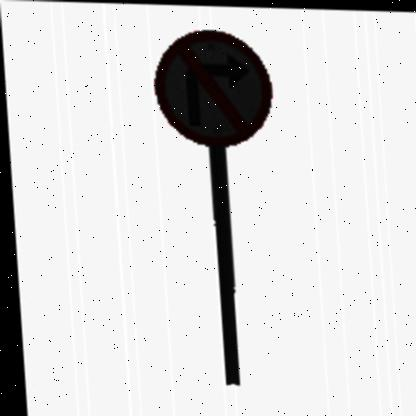No right turn: (144, 29, 272, 150)
